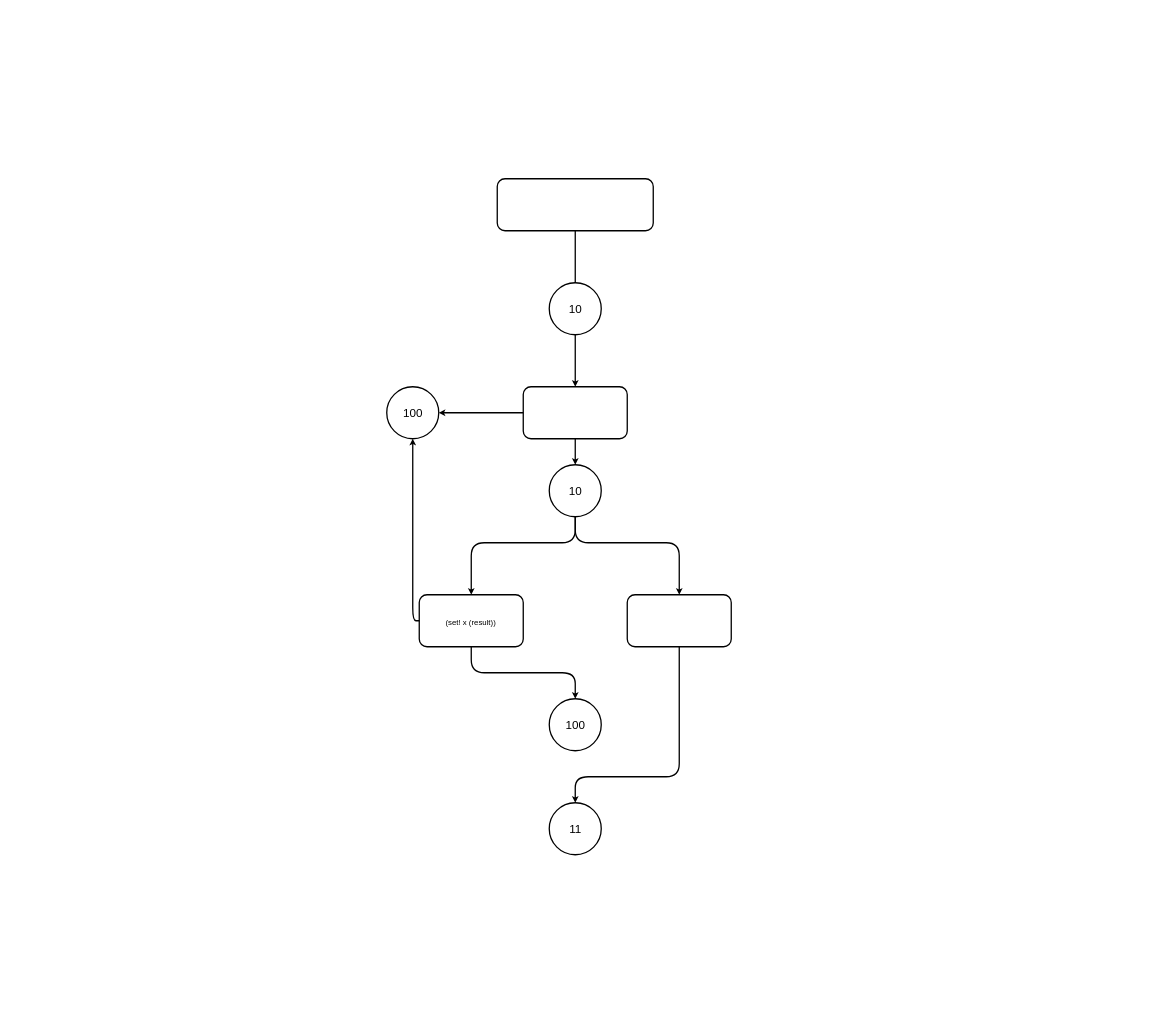
Image size: 1149x1032. Some labels were removed from this diagram. The shapes that lost their labels are listed below. From the top down, each one's centre as x and y in pixels, then its label:
point (574, 204): parallel-execution
point (574, 412): (lambda () (* x x))
point (678, 620): (lambda () (set! x (+ x 1))
